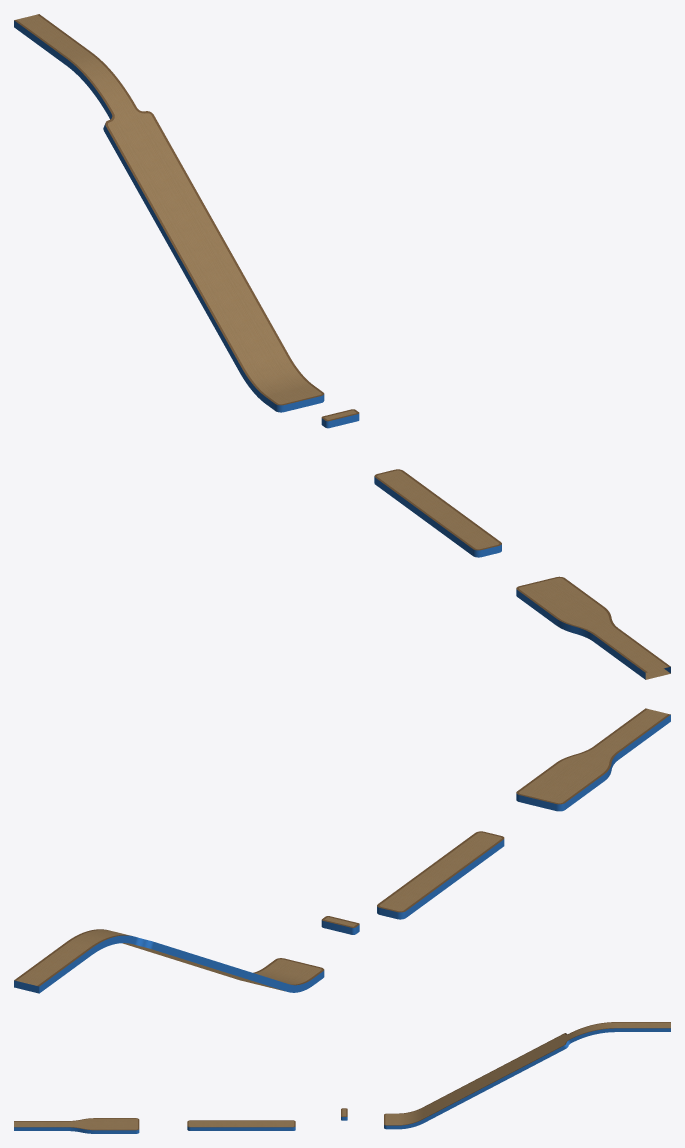
Rendered from ramp-19.FBX.
The picture shows the model from 3 angles, top to bottom: view 1: azimuth 30°, elevation 25°; view 2: azimuth 150°, elevation 25°; view 3: azimuth 270°, elevation 25°; orthographic projection. The views are drawn at different scales.
Visible parts, largest first — view 1: ramp_19; view 2: ramp_19; view 3: ramp_19.
Boxes of the visible parts, left/top/right/bottom form: ramp_19: left=14, top=14, right=670, bottom=679; ramp_19: left=14, top=708, right=670, bottom=993; ramp_19: left=14, top=1022, right=670, bottom=1133.
Size of the model in its own units: 850 by 3346 by 19408.
